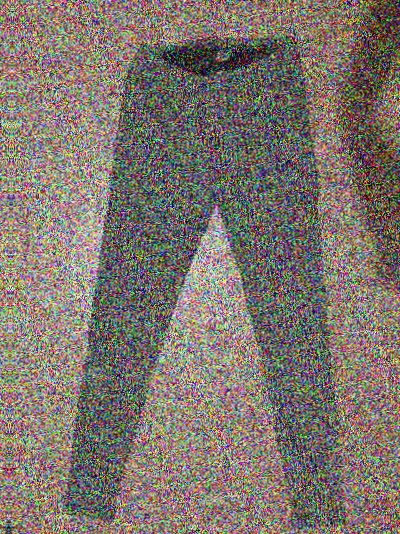Pants: (69, 33, 361, 534)
